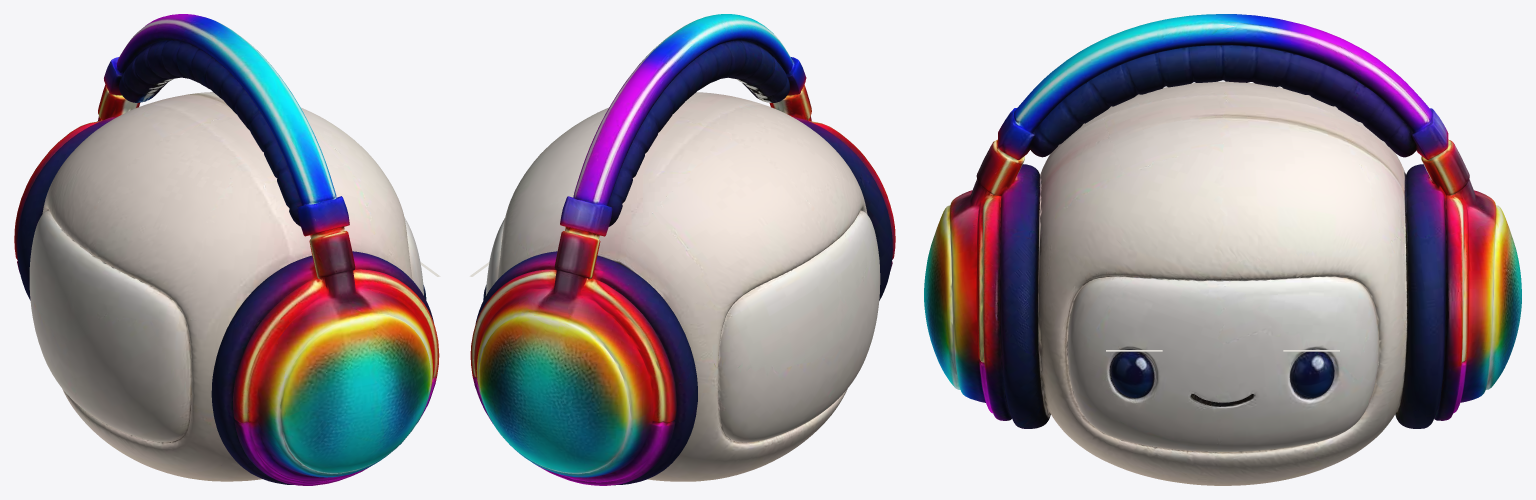
Rendered from итог сайт.glb.
3 renders of one model, left to right at view 1: azimuth 30°, elevation 25°; view 2: azimuth 150°, elevation 25°; view 3: azimuth 270°, elevation 25°, orthographic. The views are drawn at different scales.
Parts seen in each view (by area): view 1: Head_with_attached_eyelids; view 2: Head_with_attached_eyelids; view 3: Head_with_attached_eyelids.
Part boxes in pixels (x1,y1,x2,y2): Head_with_attached_eyelids: [14, 14, 439, 485]; Head_with_attached_eyelids: [470, 14, 895, 485]; Head_with_attached_eyelids: [924, 14, 1521, 485].
Bounding box in the file's own units: 0.6328 × 0.7771 × 0.9783.
Materials: 2 (1 with a texture image).
